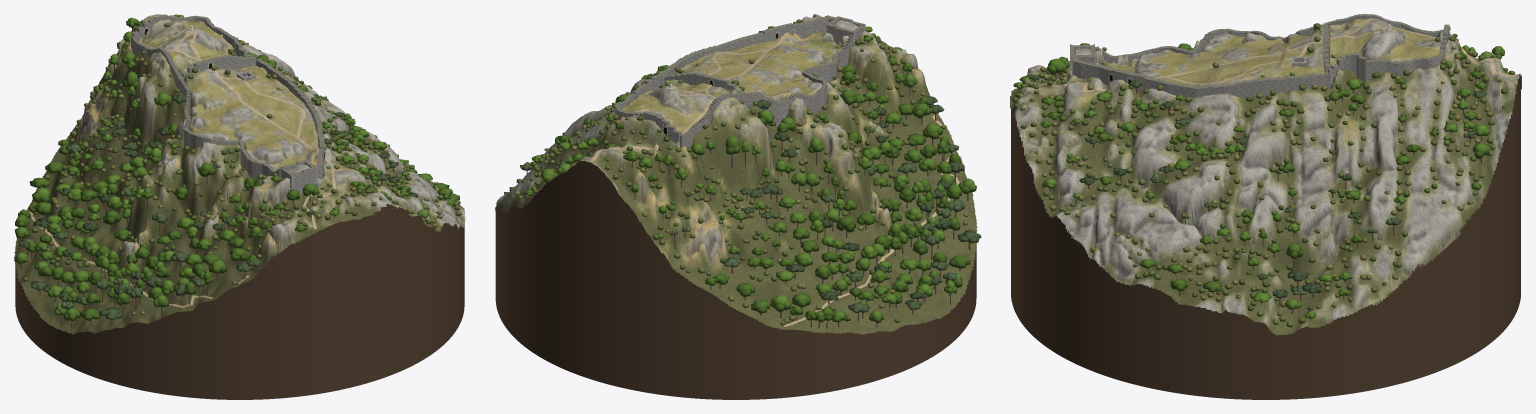
File: castro-laboreiro.glb
3 views of the same model, side by side, from view 1: azimuth 30°, elevation 25°; view 2: azimuth 150°, elevation 25°; view 3: azimuth 270°, elevation 25° (orthographic). The views are drawn at different scales.
Visible parts, largest first — view 1: Base, Terreno, Vegetacao, Afloramentos, Caminhos, Cerca_Poente, Cerca_Nascente, Muro_Recintos, Reduto, Castelo_Nascente, Castelo_Poente; view 2: Terreno, Base, Vegetacao, Afloramentos, Cerca_Poente, Cerca_Nascente, Caminhos, Castelo_Poente, Castelo_Nascente, Muro_Recintos, Reduto, Castelo_Norte; view 3: Base, Terreno, Afloramentos, Vegetacao, Cerca_Nascente, Castelo_Nascente, Caminhos, Cerca_Poente, Castelo_Poente.
Boxes of the visible parts, left/top/right/bottom form: Base: left=15, top=17, right=464, bottom=399; Terreno: left=14, top=14, right=465, bottom=334; Vegetacao: left=14, top=14, right=461, bottom=327; Afloramentos: left=80, top=14, right=465, bottom=255; Caminhos: left=28, top=15, right=343, bottom=307; Cerca_Poente: left=177, top=76, right=280, bottom=180; Cerca_Nascente: left=256, top=58, right=324, bottom=178; Muro_Recintos: left=180, top=55, right=256, bottom=79; Reduto: left=280, top=160, right=317, bottom=194; Castelo_Nascente: left=168, top=15, right=255, bottom=57; Castelo_Poente: left=131, top=36, right=180, bottom=87; Terreno: left=495, top=15, right=977, bottom=334; Base: left=495, top=81, right=976, bottom=399; Vegetacao: left=504, top=14, right=981, bottom=328; Afloramentos: left=496, top=15, right=924, bottom=262; Cerca_Poente: left=747, top=34, right=853, bottom=126; Cerca_Nascente: left=660, top=16, right=836, bottom=75; Caminhos: left=590, top=32, right=959, bottom=326; Castelo_Poente: left=680, top=92, right=746, bottom=148; Castelo_Nascente: left=614, top=74, right=665, bottom=119; Muro_Recintos: left=663, top=72, right=742, bottom=92; Reduto: left=826, top=16, right=865, bottom=44; Castelo_Norte: left=643, top=111, right=681, bottom=146; Base: left=1011, top=74, right=1520, bottom=399; Terreno: left=1010, top=18, right=1521, bottom=335; Afloramentos: left=1014, top=19, right=1521, bottom=321; Vegetacao: left=1012, top=23, right=1515, bottom=327; Cerca_Nascente: left=1072, top=57, right=1328, bottom=97; Castelo_Nascente: left=1328, top=36, right=1447, bottom=88; Caminhos: left=1049, top=18, right=1515, bottom=91; Cerca_Poente: left=1096, top=24, right=1322, bottom=63; Castelo_Poente: left=1325, top=14, right=1443, bottom=36.
Size of the model in its own units: 184 by 107 by 184.
11 materials, 4 textured.
